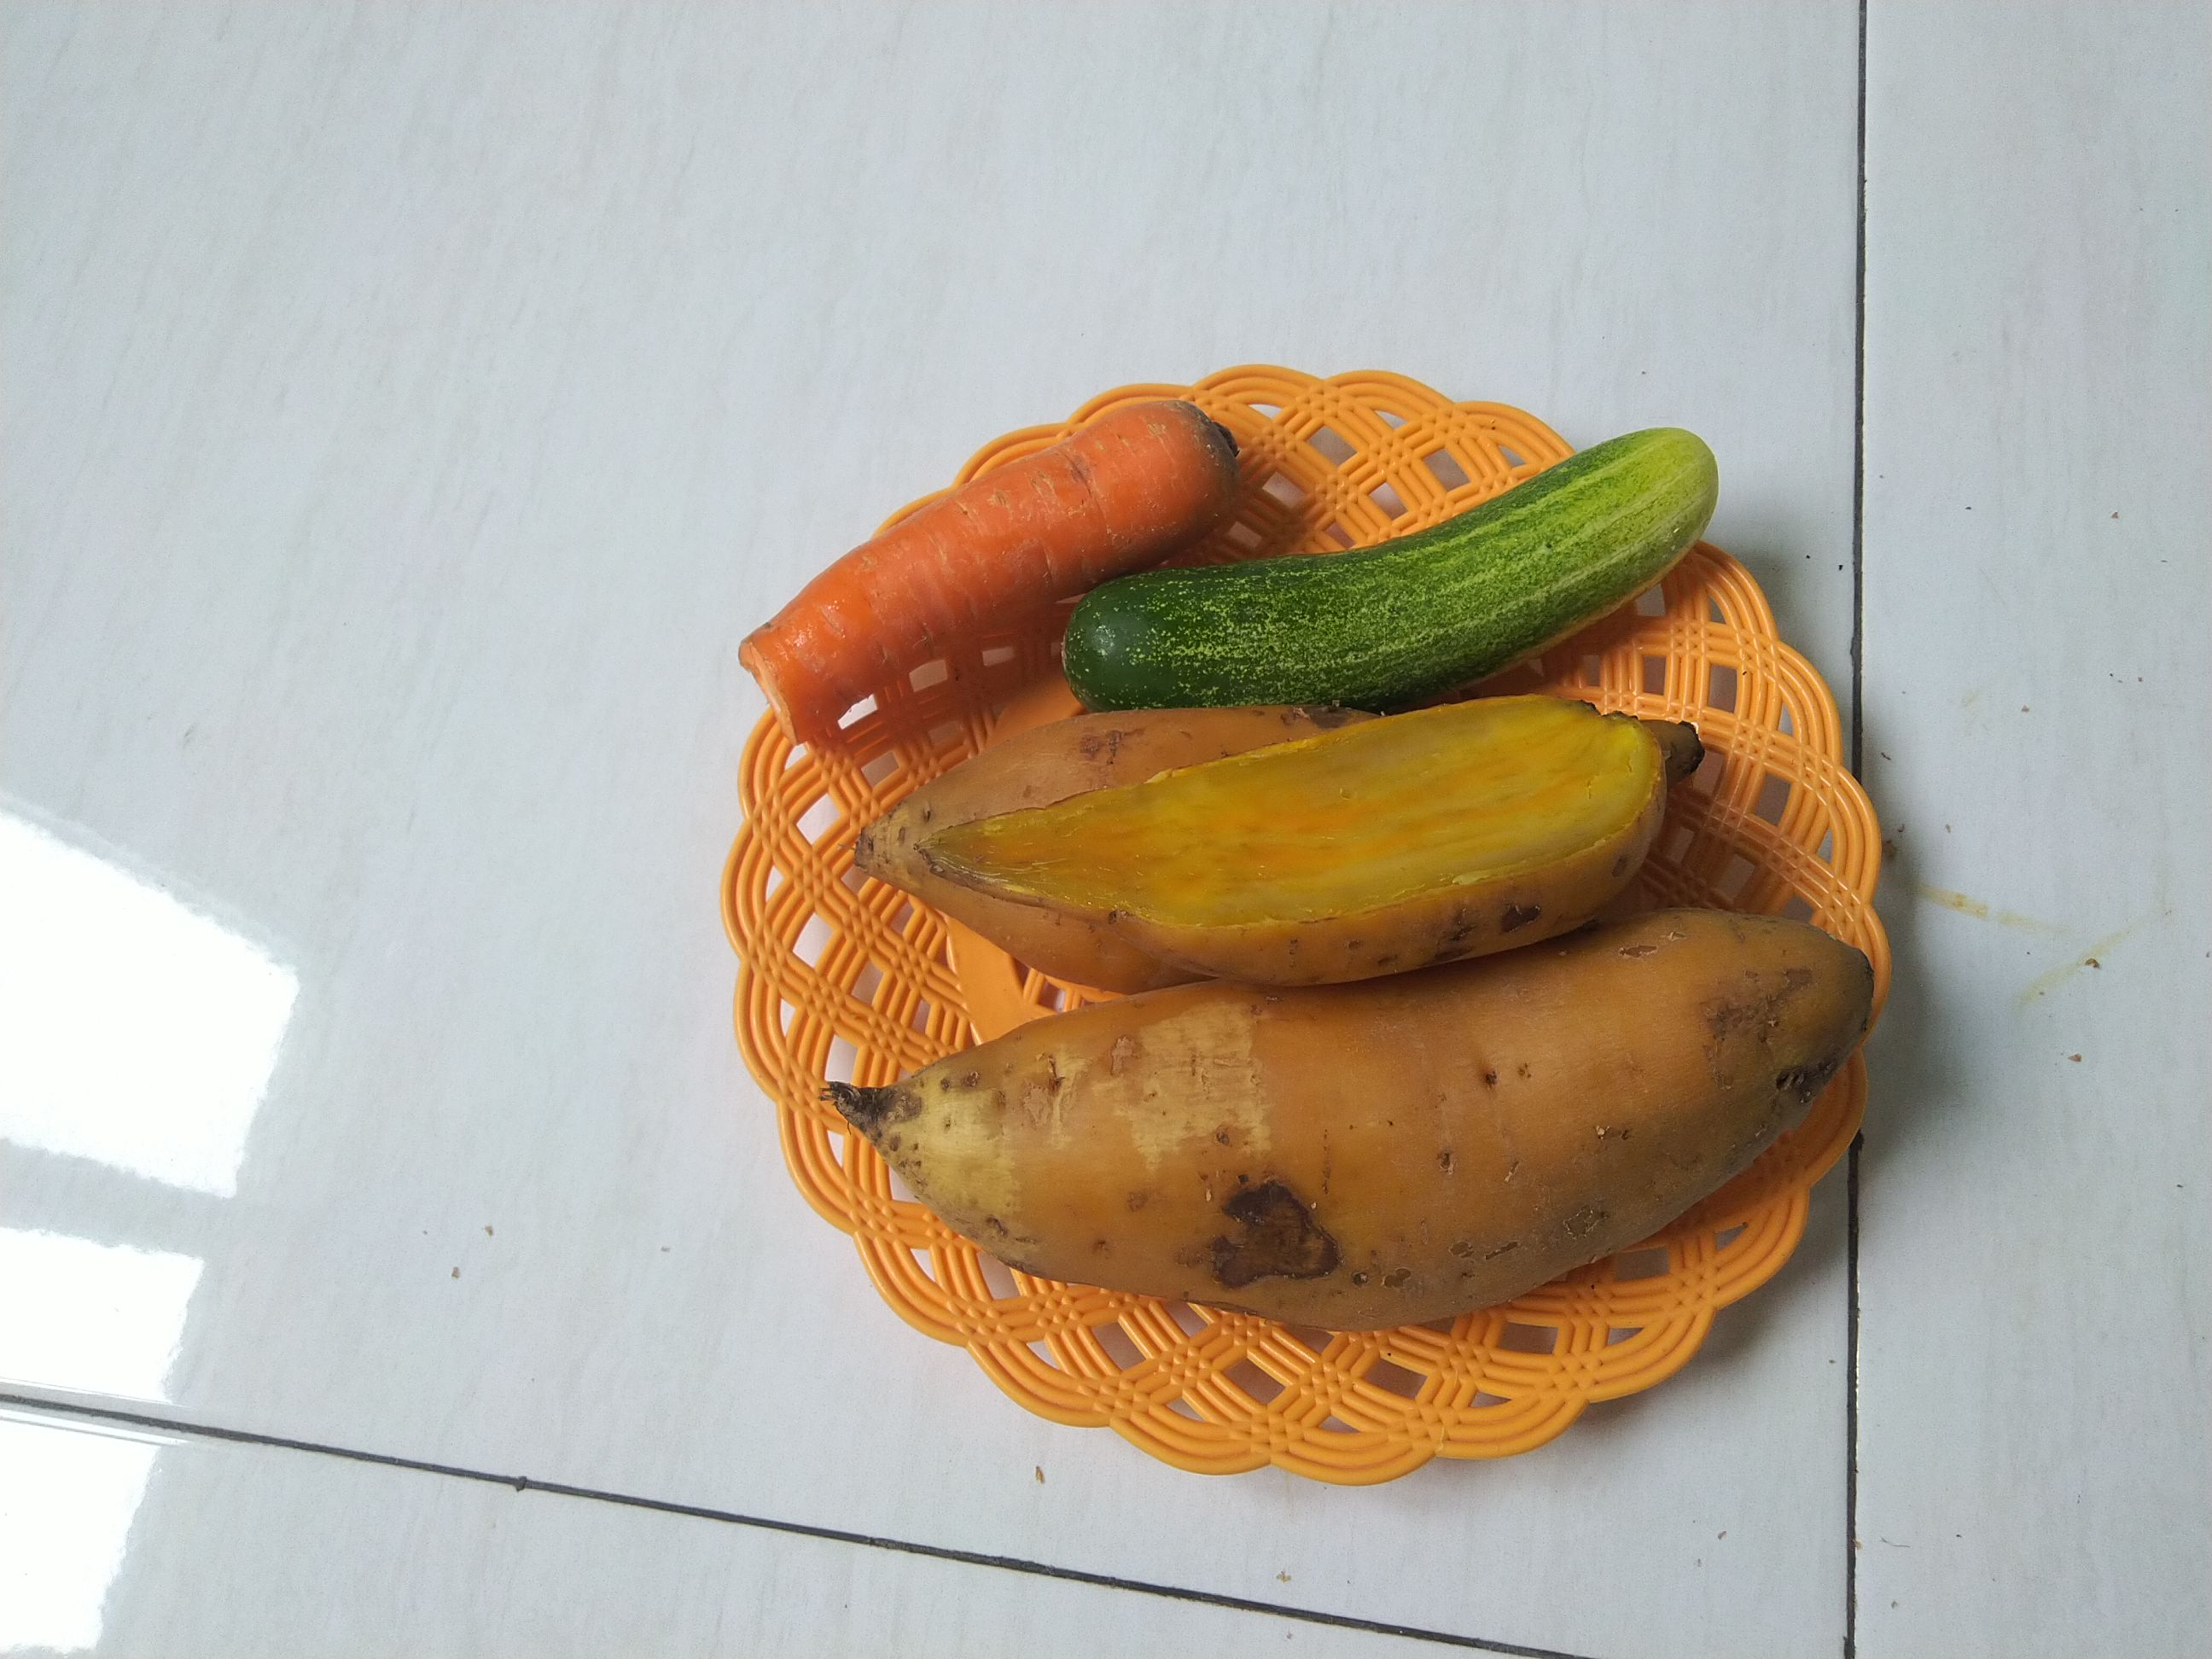ubi cilembu: (833, 920, 1878, 1321), (928, 690, 1717, 979)
